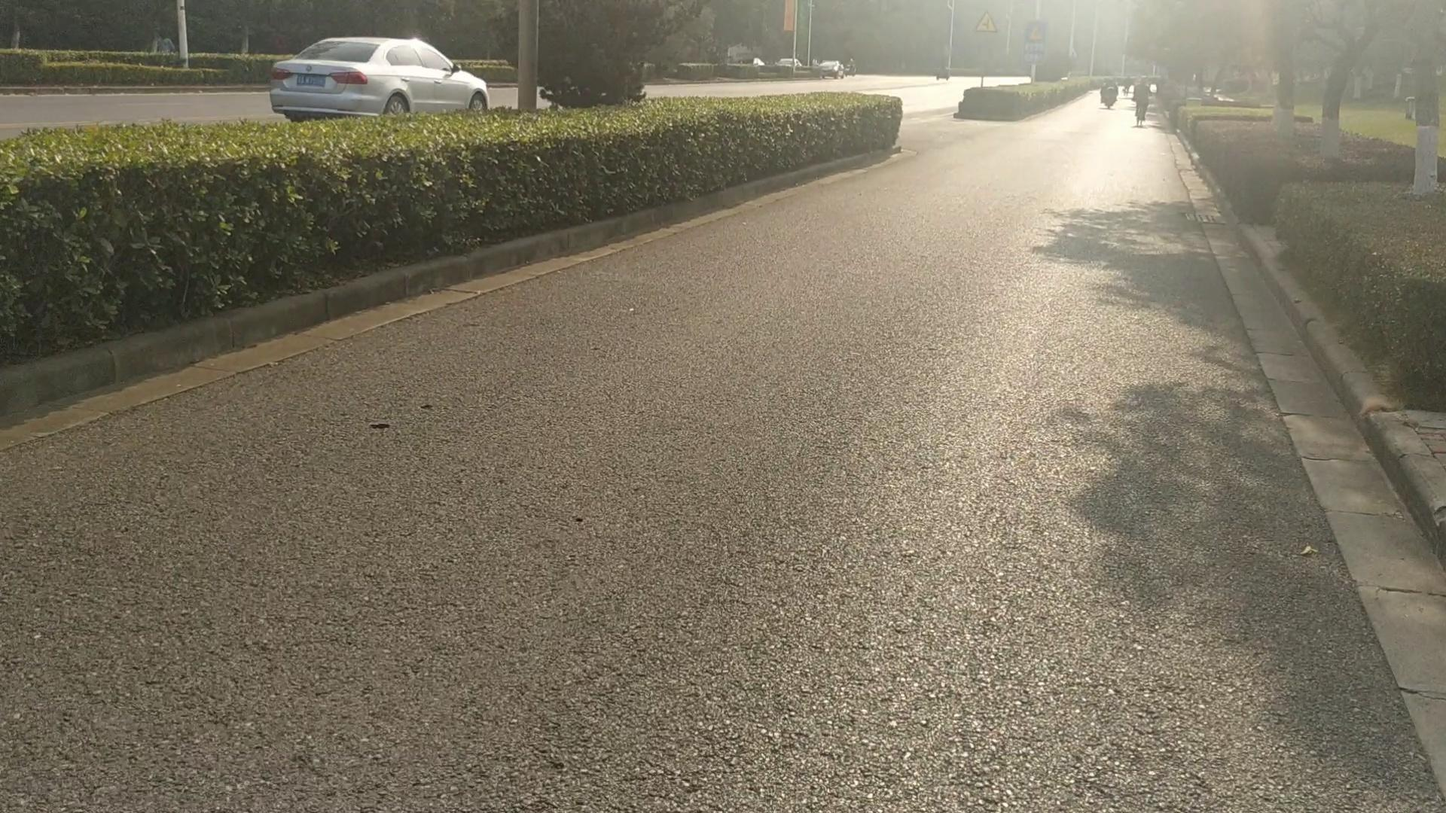car: (268, 35, 492, 118), (953, 87, 1033, 122), (816, 59, 853, 80)
